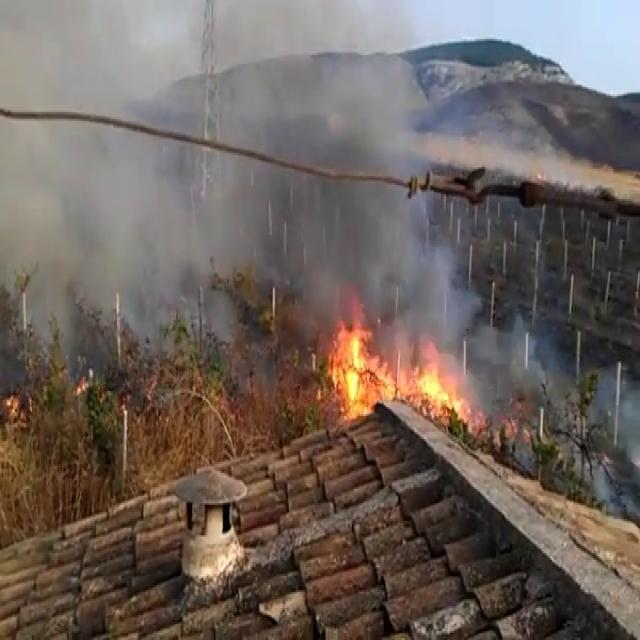Fire: (322, 314, 472, 426)
Smoke: (0, 0, 464, 370)
